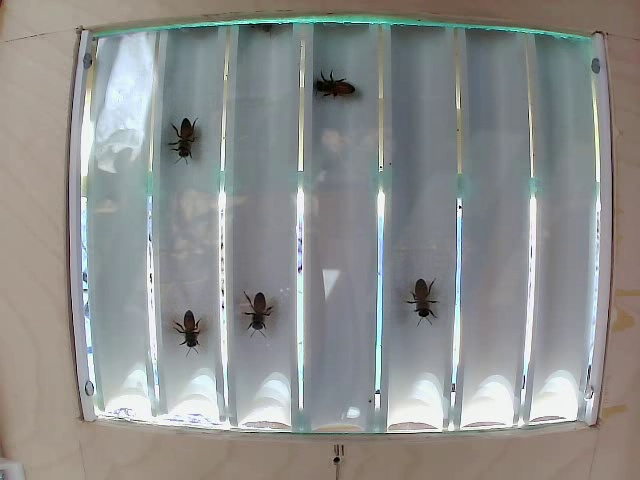bee: (157, 106, 212, 160), (313, 62, 363, 106), (241, 291, 284, 342), (402, 282, 437, 328), (172, 308, 204, 355)
